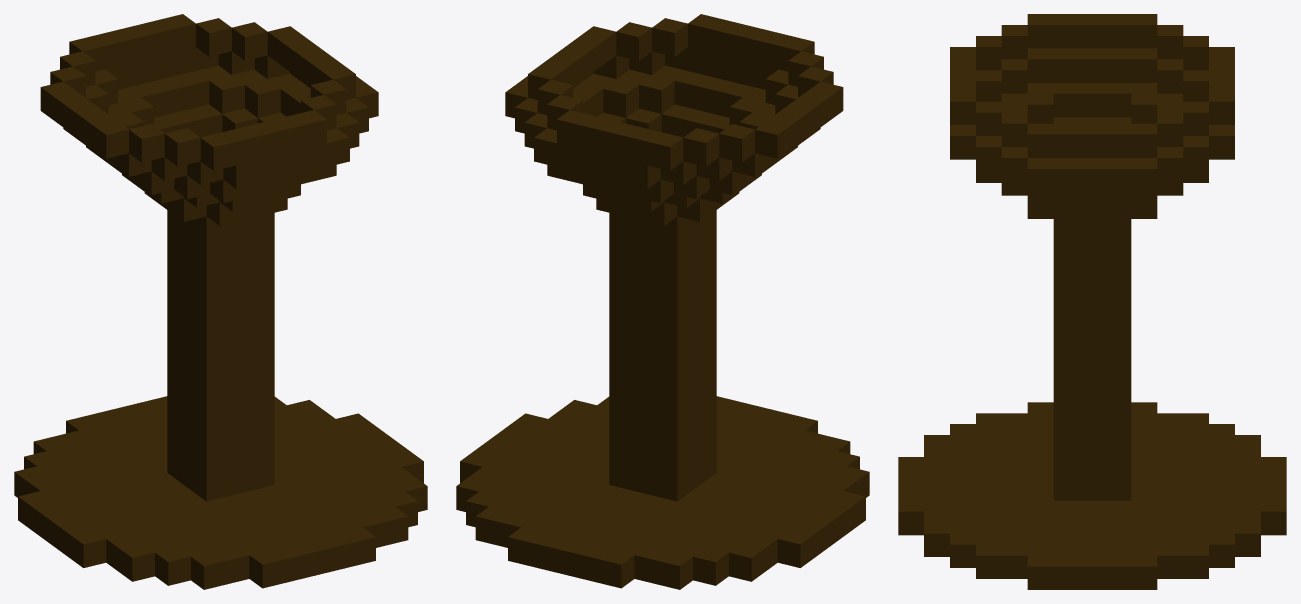
The model's file is Light.obj.
The picture shows the model from 3 angles, left to right: view 1: azimuth 30°, elevation 25°; view 2: azimuth 150°, elevation 25°; view 3: azimuth 270°, elevation 25°; orthographic projection.
Size of the model in its own units: 1.5 by 1.8 by 1.5.
Materials: 1 (1 with a texture image).
